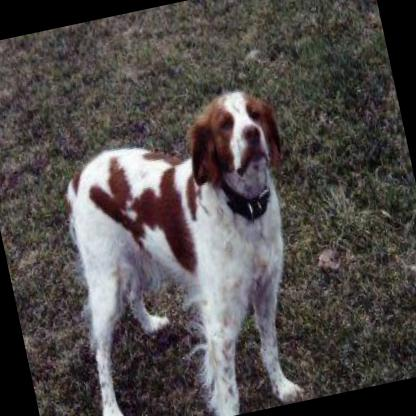Brittany_spaniel: (37, 79, 332, 416)
